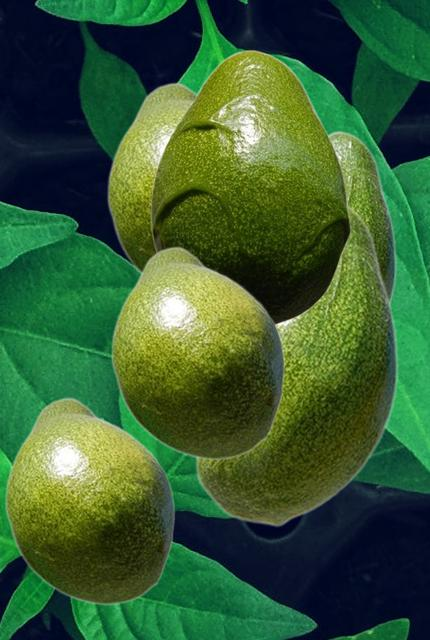avocado: (193, 204, 398, 526), (150, 49, 350, 324), (110, 246, 284, 460), (4, 397, 174, 605), (106, 82, 196, 273), (329, 130, 396, 302)
